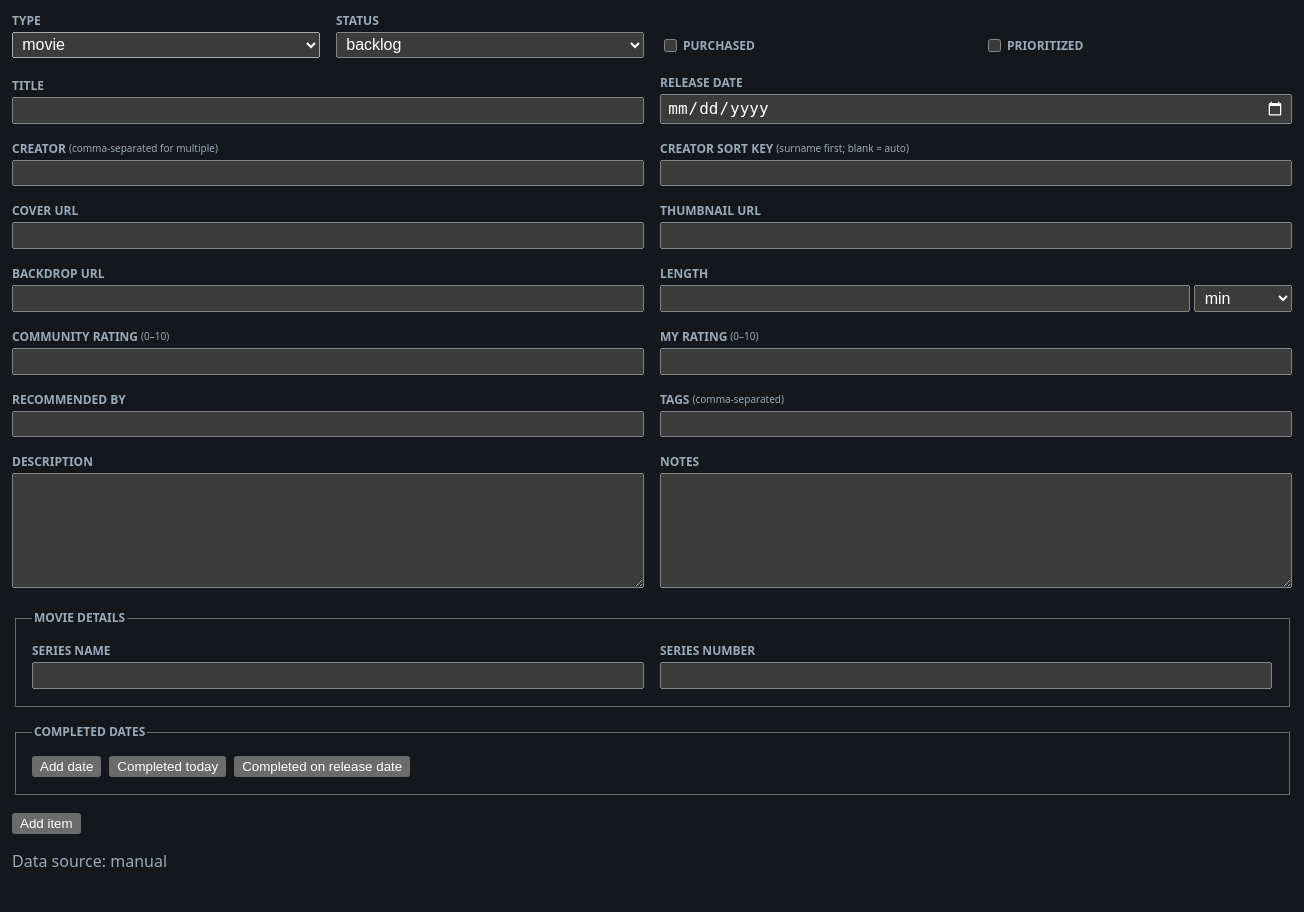
Scenario: ItemForm › swaps the metadata block when the type changes
Select "book" in the dropdown labelled "Type": [166, 45] box [12, 32, 320, 58]
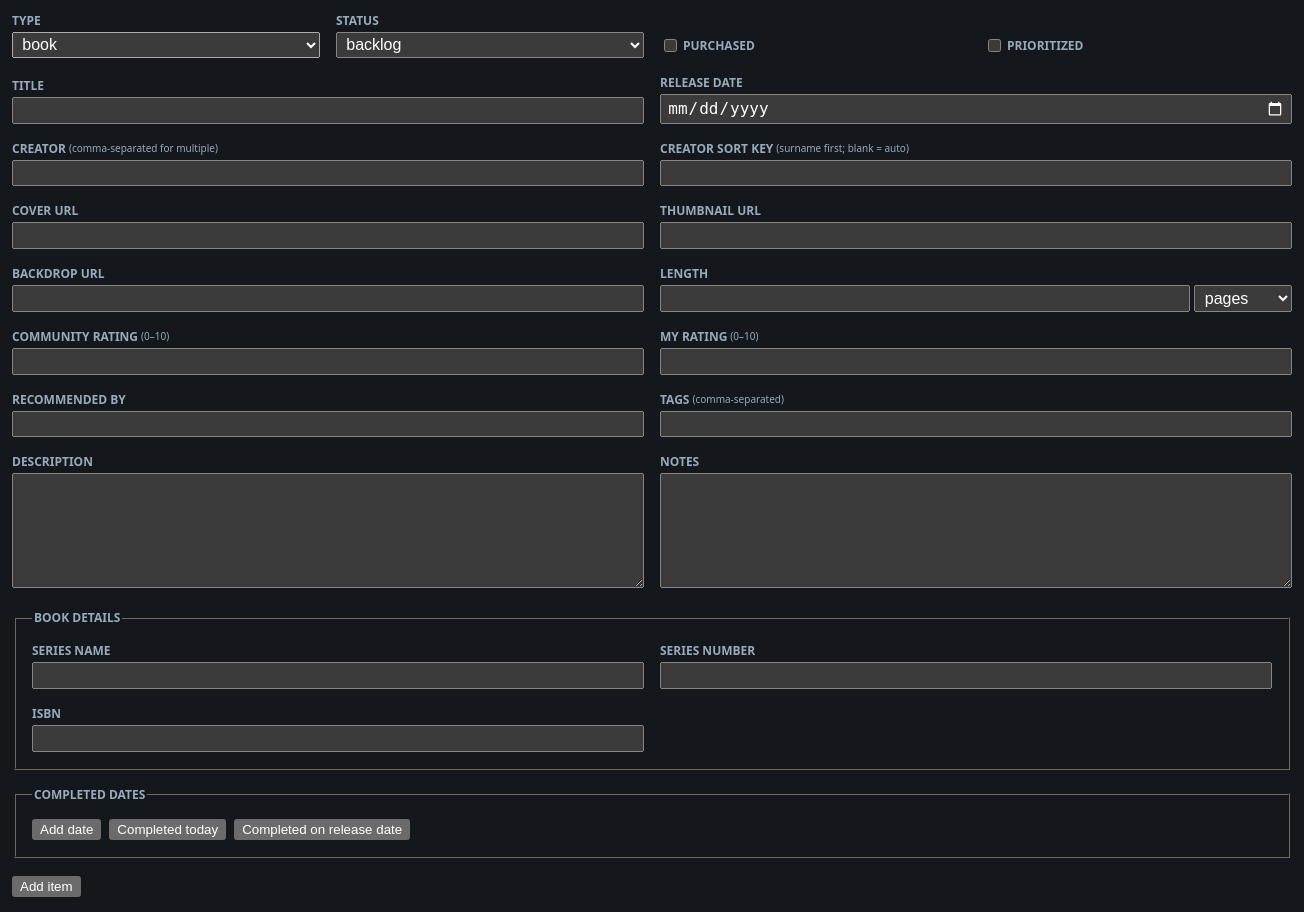
Expected: the field labelled "Series Name" is shown, [32, 662, 644, 689]
Expected: the text "Book details" is shown, [32, 609, 122, 626]
Select "show" in the dropdown labelled "Type": [166, 45] box [12, 32, 320, 58]
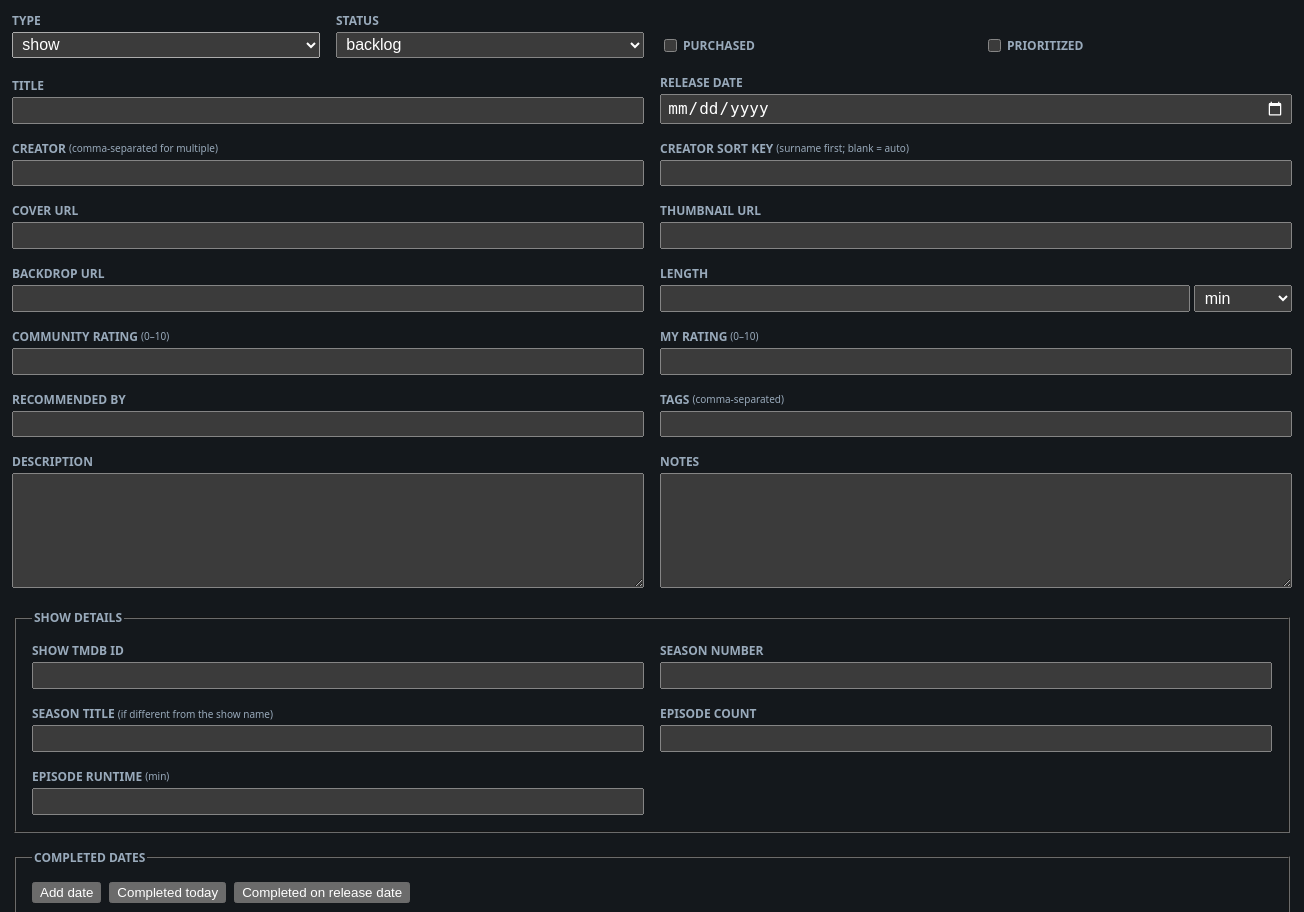
Expected: the number field labelled "Season number" is shown, [660, 662, 1272, 689]
Expected: the text "Show details" is shown, [32, 609, 124, 626]
Games carry a series too, under the same label as books and movies.
Select "game" in the dropdown labelled "Type": [166, 45] box [12, 32, 320, 58]
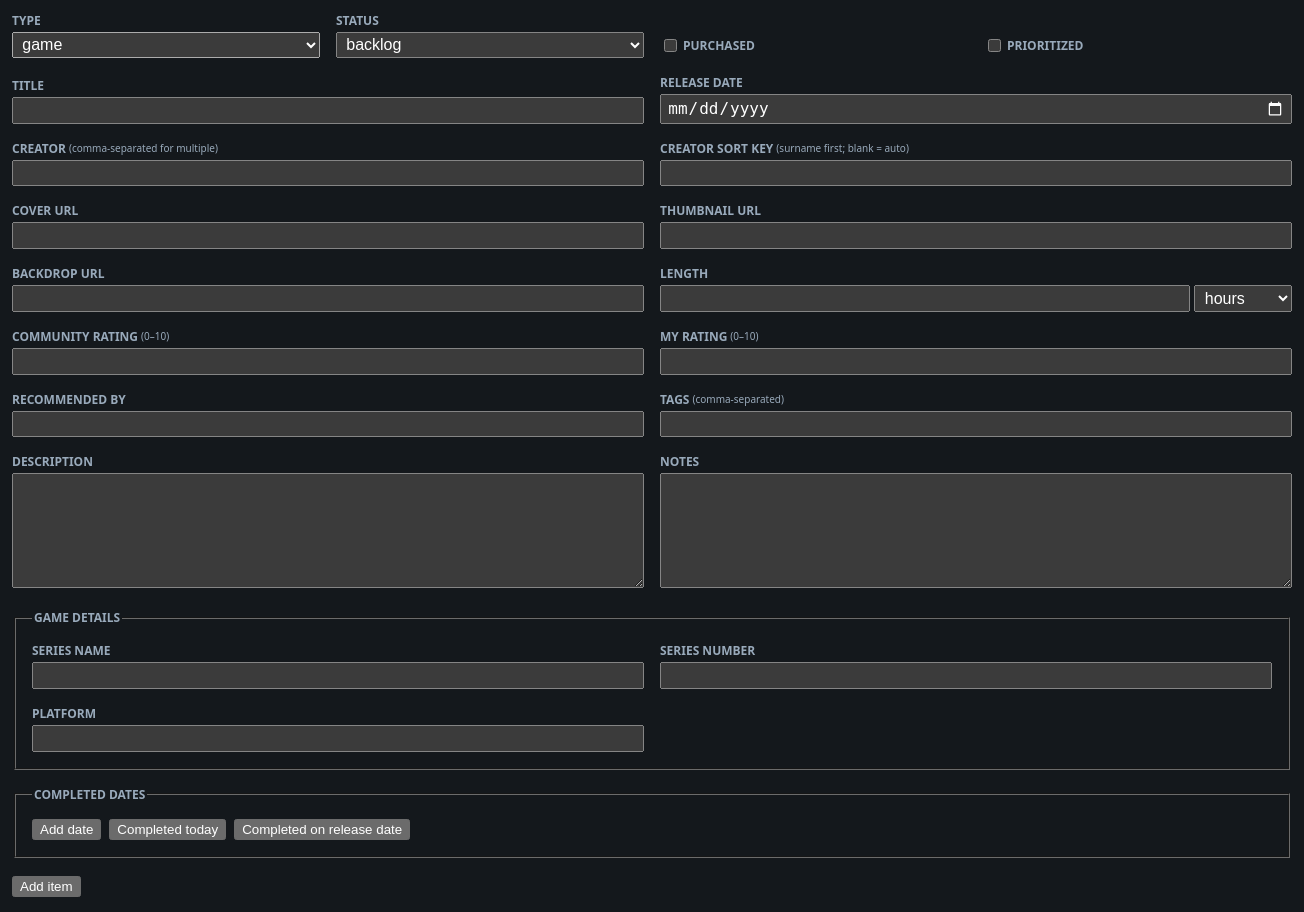
Expected: the field labelled "Series Name" is shown, [32, 662, 644, 689]
Expected: the text "Game details" is shown, [32, 609, 122, 626]
